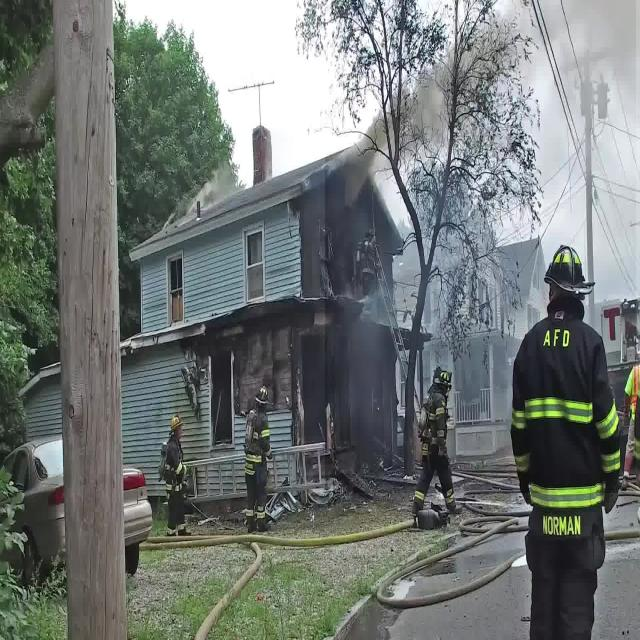Smoke: (325, 0, 636, 493)
